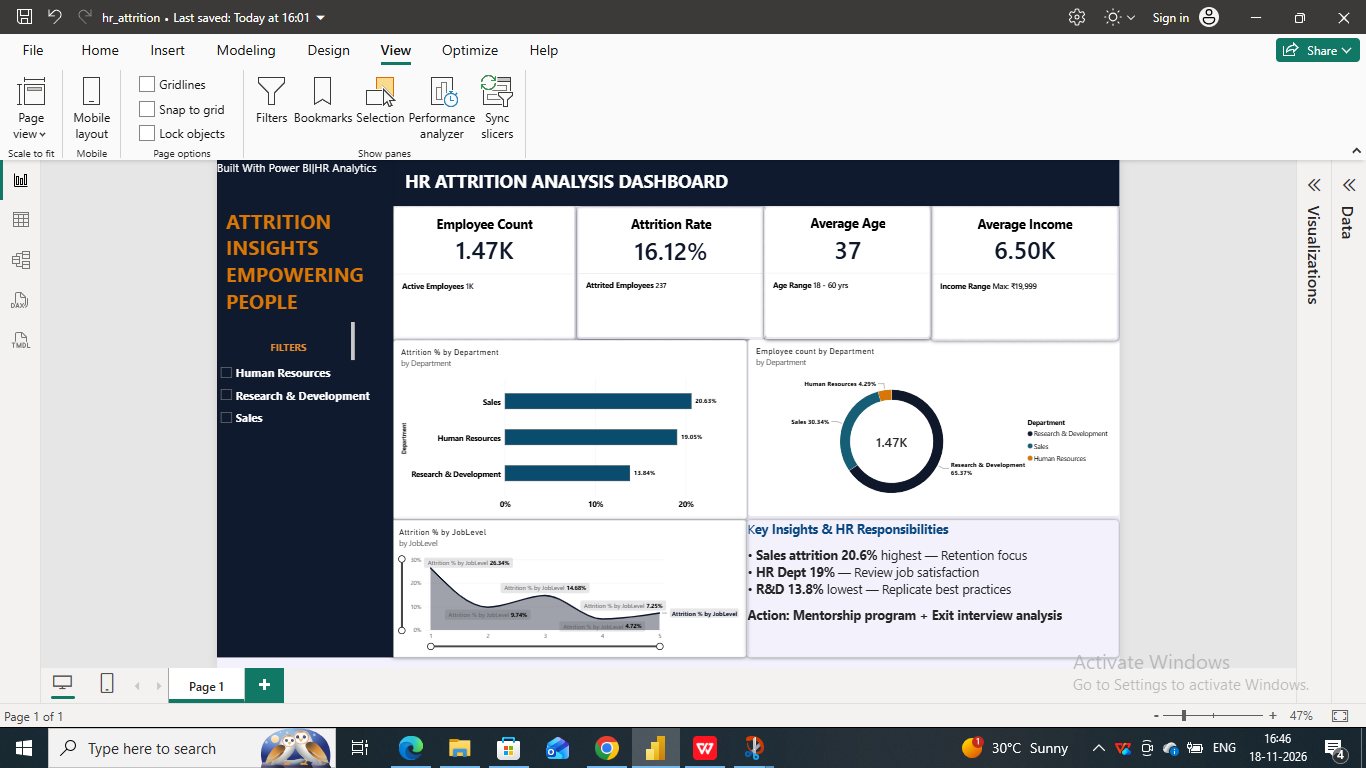

The page's visual inventory and layout, read from the dashboard file:
{"tool":"powerbi","page":{"name":"Page 1","canvas":[1920,1080],"ordinal":0},"visuals":[{"type":"cardVisual","fields":{"Data":["Dim_attrition.Attrition %"]},"box":[765.4,99.9,399.7,280.6],"z":0},{"type":"cardVisual","fields":{"Data":["CountNonNull(Fact_HR.EmployeeCount)"]},"box":[375.5,98.1,388.3,285.9],"z":1000},{"type":"barChart","fields":{"Category":["Dim_department.Department"],"Y":["Dim_attrition.Attrition %"]},"box":[375.5,384,753.1,381.9],"z":2000},{"type":"textbox","box":[1186.8,0,483.8,249.4],"z":3000},{"type":"donutChart","fields":{"Category":["Fact_HR.Department"],"Y":["CountNonNull(Fact_HR.EmployeeCount)"]},"box":[1128.9,380.6,791.5,377.6],"z":5000},{"type":"areaChart","fields":{"Category":["Fact_HR.JobLevel"],"Y":["Dim_attrition.Attrition %"]},"box":[371.2,765.9,757.3,292.3],"z":6000},{"type":"cardVisual","fields":{"Data":["Fact_HR.Average Income"]},"box":[1520.1,97.8,398.9,285.9],"z":7000},{"type":"textbox","box":[440.1,0,140.3,63.8],"z":8000},{"type":"textbox","box":[616.5,0,170.1,63.8],"z":9000},{"type":"image","box":[1186.3,129.7,242.4,40.4],"z":10000},{"type":"shape","box":[0,0,1920,98.1],"z":12000},{"type":"shape","box":[0,0,375.5,1058.1],"z":13000},{"type":"textbox","box":[399.7,0,1320.2,80.8],"z":14000},{"type":"textbox","box":[19.1,344.4,274.3,82.9],"z":15000},{"type":"slicer","fields":{"Values":["Dim_department.Department"]},"box":[0,427.3,338,204.1],"z":16000},{"type":"textbox","box":[1128.5,765.9,791.5,292.3],"z":17000},{"type":"textbox","box":[19.1,99.9,318.9,282.8],"z":18000},{"type":"textbox","box":[0,0,417,97.9],"z":19000},{"type":"cardVisual","fields":{"Data":["Fact_HR.AVerage Age"]},"box":[1164.5,97.8,355,282.8],"z":20000}]}

Visuals, with their boxes on the page's 1920x1080 design canvas (x1, y1, x2, y2). These are canvas units, not pixel positions in the 1366x768 screenshot, which may show the page scaled, cropped or inside an application window:
cardVisual - Dim_attrition.Attrition %: rect(765, 100, 1165, 380)
cardVisual - CountNonNull(Fact_HR.EmployeeCount): rect(376, 98, 764, 384)
barChart - Dim_department.Department x Dim_attrition.Attrition %: rect(376, 384, 1129, 766)
textbox: rect(1187, 0, 1671, 249)
donutChart - Fact_HR.Department x CountNonNull(Fact_HR.EmployeeCount): rect(1129, 381, 1920, 758)
areaChart - Fact_HR.JobLevel x Dim_attrition.Attrition %: rect(371, 766, 1128, 1058)
cardVisual - Fact_HR.Average Income: rect(1520, 98, 1919, 384)
textbox: rect(440, 0, 580, 64)
textbox: rect(616, 0, 787, 64)
image: rect(1186, 130, 1429, 170)
shape: rect(0, 0, 1920, 98)
shape: rect(0, 0, 376, 1058)
textbox: rect(400, 0, 1720, 81)
textbox: rect(19, 344, 293, 427)
slicer - Dim_department.Department: rect(0, 427, 338, 631)
textbox: rect(1128, 766, 1920, 1058)
textbox: rect(19, 100, 338, 383)
textbox: rect(0, 0, 417, 98)
cardVisual - Fact_HR.AVerage Age: rect(1164, 98, 1520, 381)
